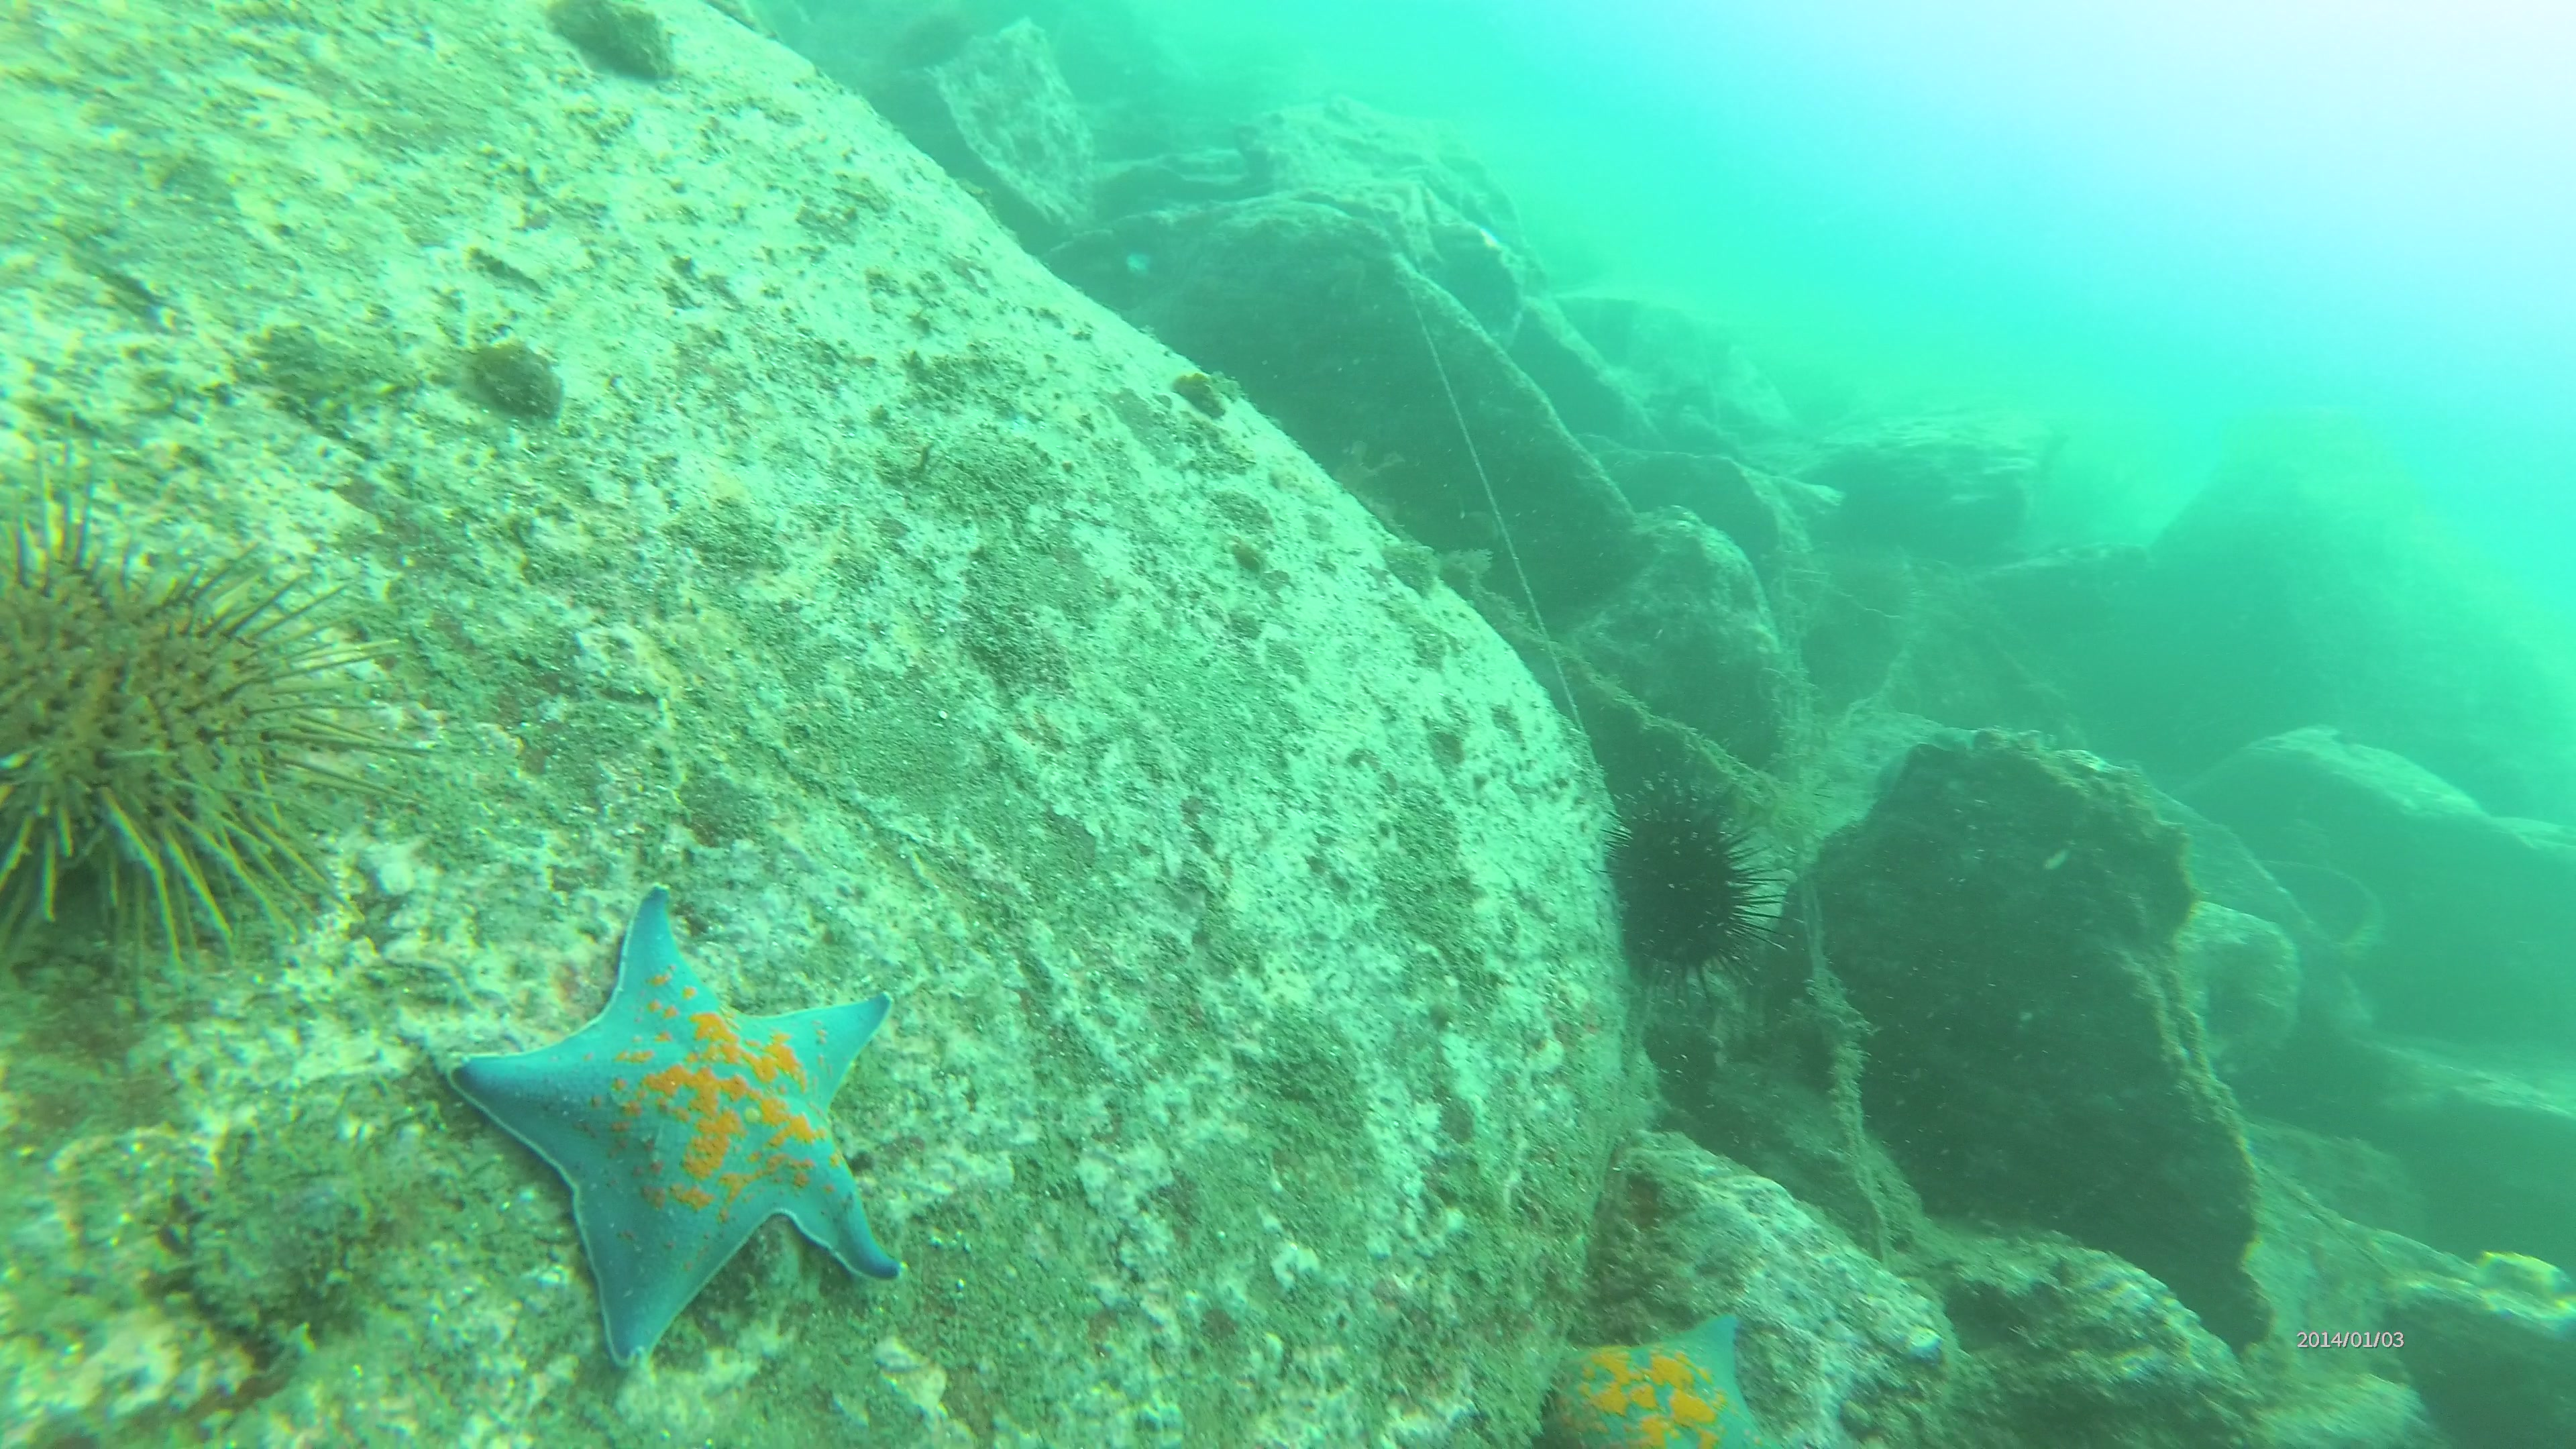echinus: (4, 485, 391, 975), (1606, 800, 1769, 984)
starfish: (449, 885, 902, 1376), (1552, 1300, 1775, 1449)
